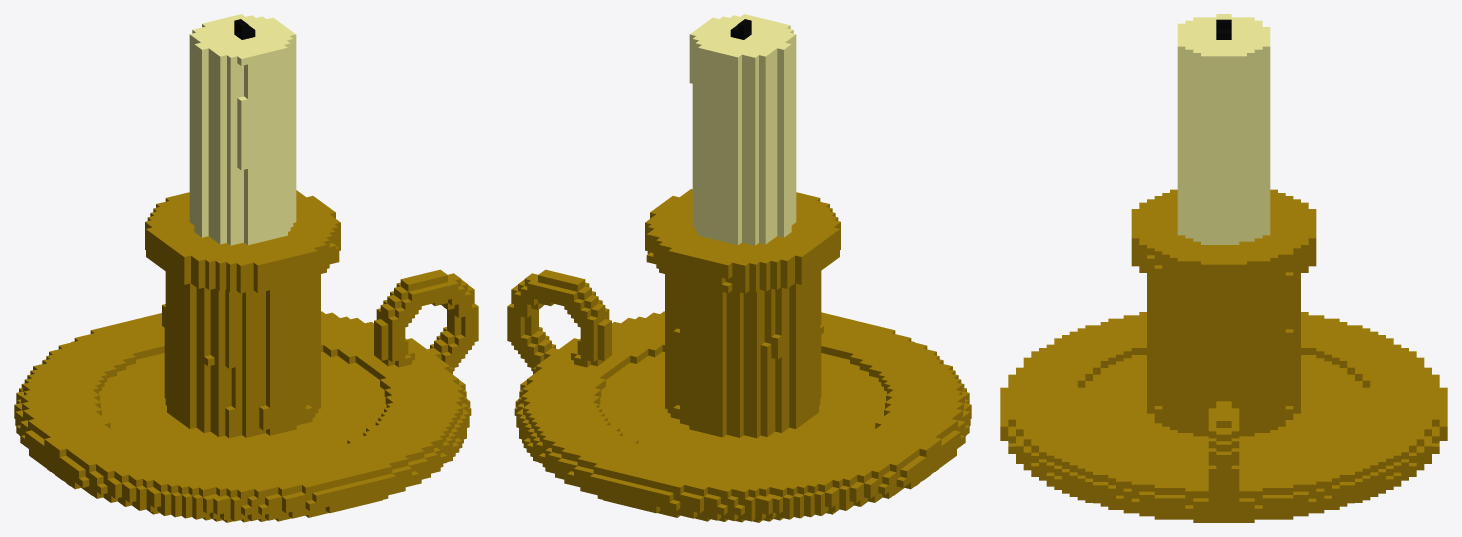
File: Candle.obj
3 views of the same model, side by side, from view 1: azimuth 30°, elevation 25°; view 2: azimuth 150°, elevation 25°; view 3: azimuth 270°, elevation 25° (orthographic).
Visible parts, largest first — view 1: candlestick_63x59x58; view 2: candlestick_63x59x58; view 3: candlestick_63x59x58.
Boxes of the visible parts, bbox=[...] form: candlestick_63x59x58: bbox=[14, 14, 478, 522]; candlestick_63x59x58: bbox=[507, 14, 971, 522]; candlestick_63x59x58: bbox=[1000, 14, 1447, 522].
Size of the model in its own units: 0.8072 by 0.7559 by 0.743.
